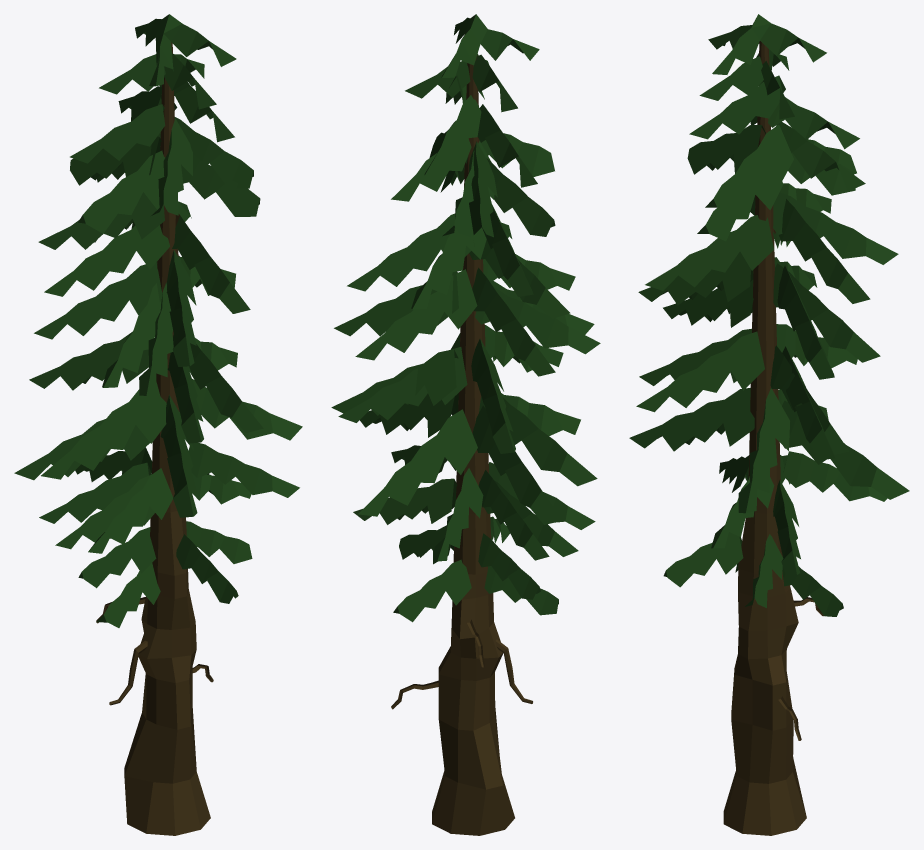
Rendered from 가문비나무.fbx.
The picture shows the model from 3 angles, left to right: view 1: azimuth 30°, elevation 25°; view 2: azimuth 150°, elevation 25°; view 3: azimuth 270°, elevation 25°; orthographic projection.
Parts seen in each view (by area): view 1: Object001; view 2: Object001; view 3: Object001.
Boxes of the visible parts, x1,y1,x2,y2 form: Object001: [14, 14, 302, 835]; Object001: [331, 14, 600, 835]; Object001: [629, 14, 909, 835].
Size of the model in its own units: 147 by 449 by 142.
